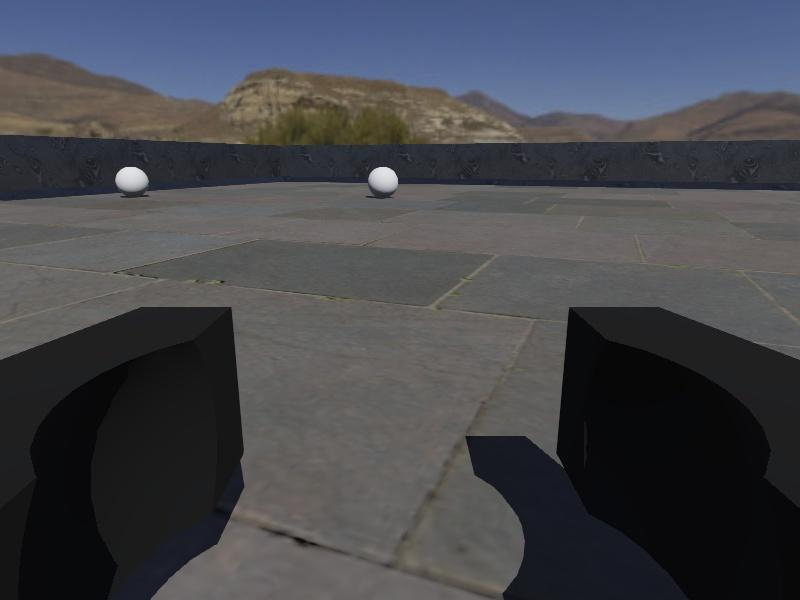white ball: (115, 166, 150, 196), (368, 165, 400, 197)
